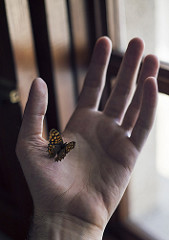palm: (38, 115, 127, 216)
